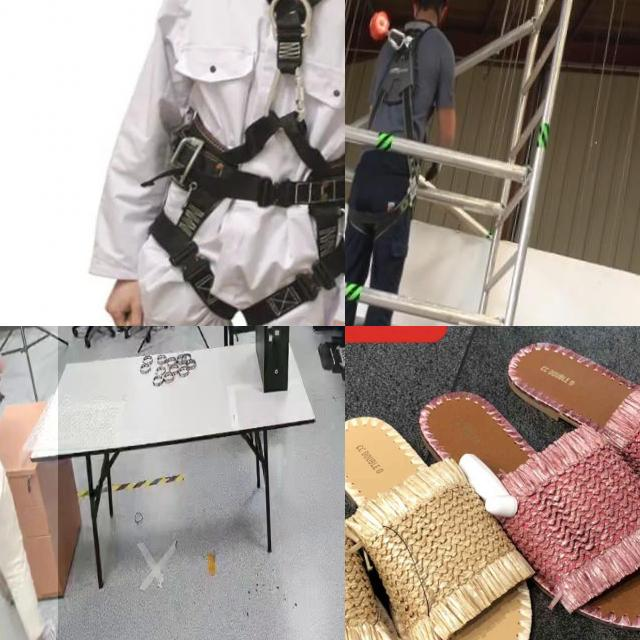Harness: (141, 0, 345, 326), (372, 24, 433, 140)
Sandals: (408, 326, 640, 640), (345, 375, 556, 640)
person: (0, 326, 58, 640)
shoes: (30, 620, 57, 640)
